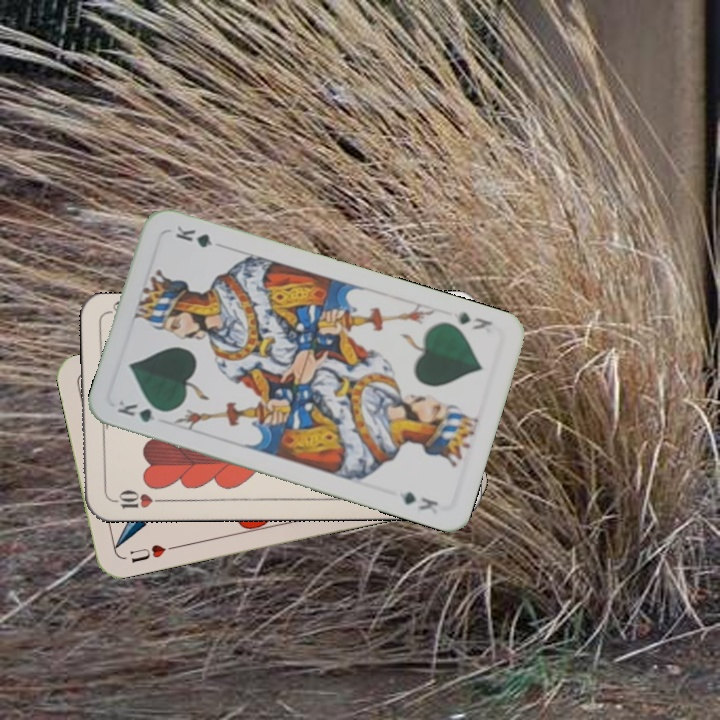GK: (113, 396, 171, 425), (455, 308, 496, 332)
H10: (106, 486, 165, 511)
HU: (126, 540, 169, 566)
